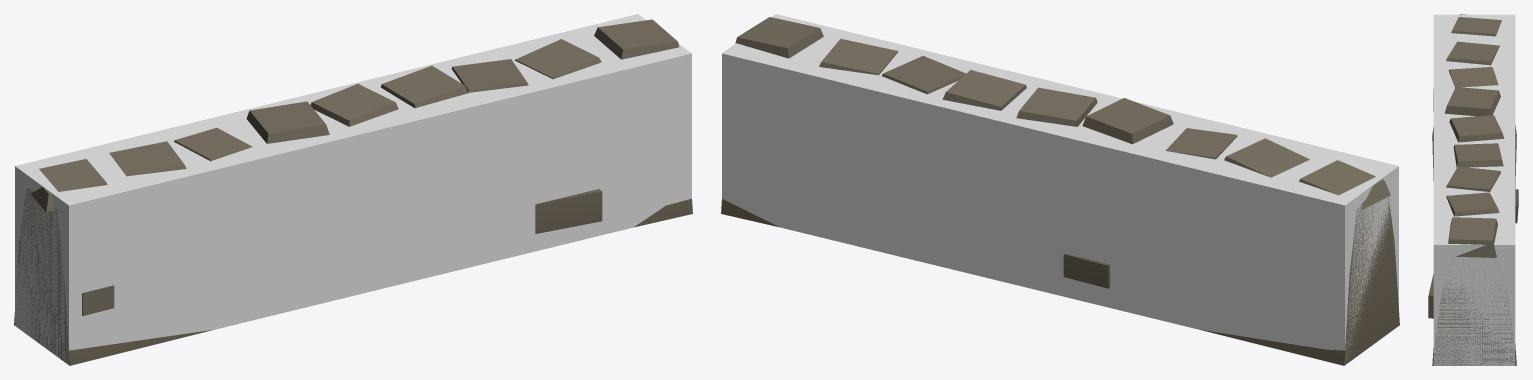
The model's file is stone_wall_low.glb.
3 renders of one model, left to right at view 1: azimuth 30°, elevation 25°; view 2: azimuth 150°, elevation 25°; view 3: azimuth 270°, elevation 25°, orthographic. The views are drawn at different scales.
Parts seen in each view (by area): view 1: COL_wall, stone_wall_low; view 2: COL_wall, stone_wall_low; view 3: COL_wall, stone_wall_low.
Boxes of the visible parts, x1=… form: COL_wall: x1=15, y1=14, x2=691, y2=364; stone_wall_low: x1=14, y1=19, x2=692, y2=365; COL_wall: x1=722, y1=14, x2=1398, y2=363; stone_wall_low: x1=721, y1=17, x2=1399, y2=365; COL_wall: x1=1433, y1=14, x2=1515, y2=365; stone_wall_low: x1=1428, y1=14, x2=1518, y2=365.
Size of the model in its own units: 4.07 by 1.04 by 0.6615.
